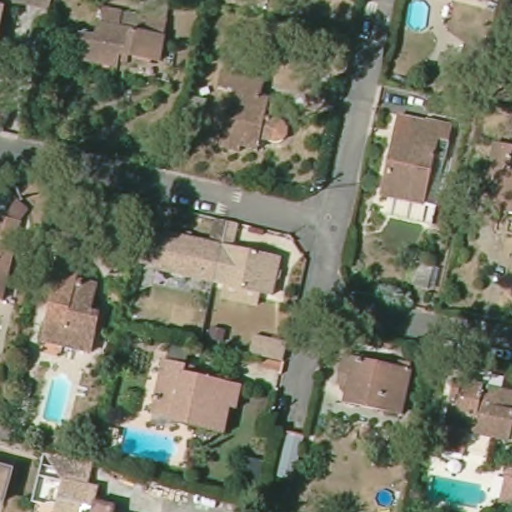pool: (113, 421, 185, 468), (421, 468, 493, 509), (38, 367, 75, 426), (403, 1, 433, 37), (370, 487, 399, 507)
